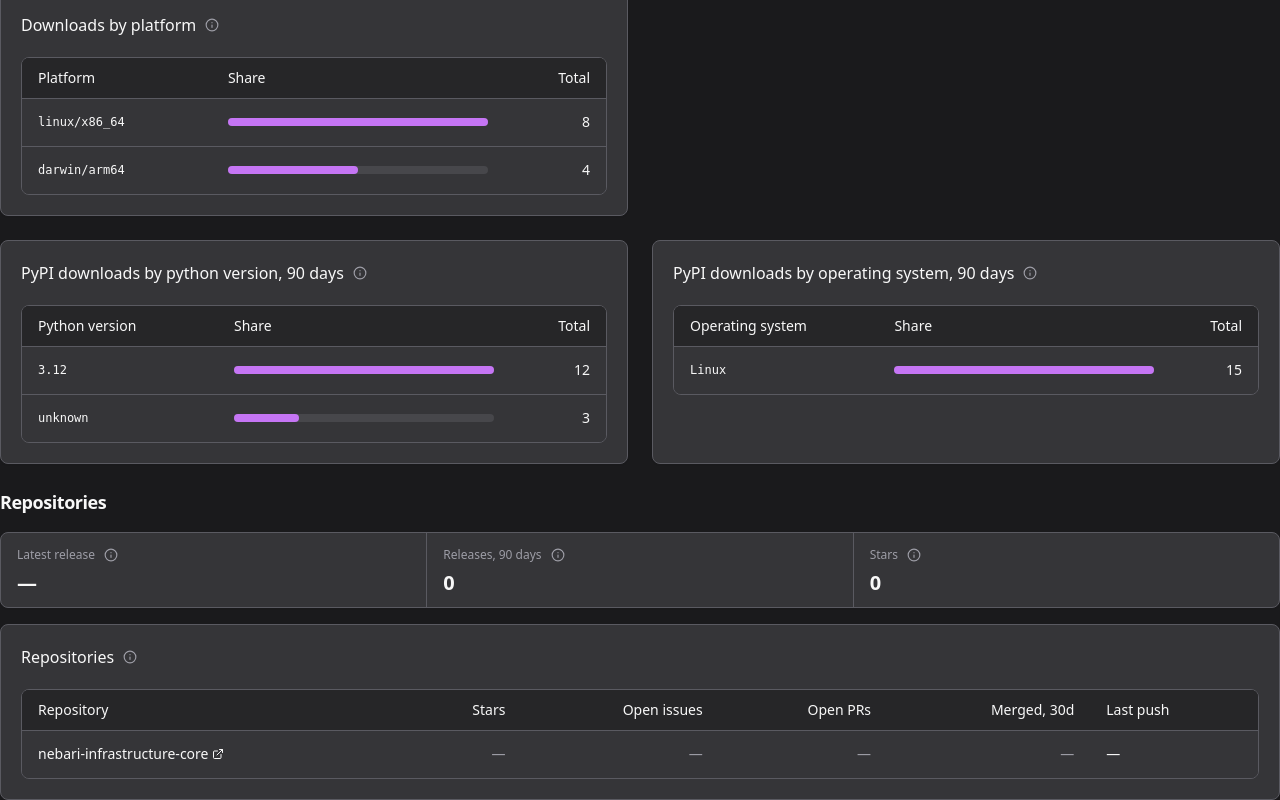
Product › lists artifacts and release breakdowns
The width and height of the screenshot is (1280, 800).
(page scrolled)
Expected: the text "linux/x86_64" is shown, [22,98,212,146]
// A repo without a health snapshot shows dashes, and no latest release.
Click the button named "About: Latest release" at {"x": 111, "y": 555}, box [99,543,123,567]
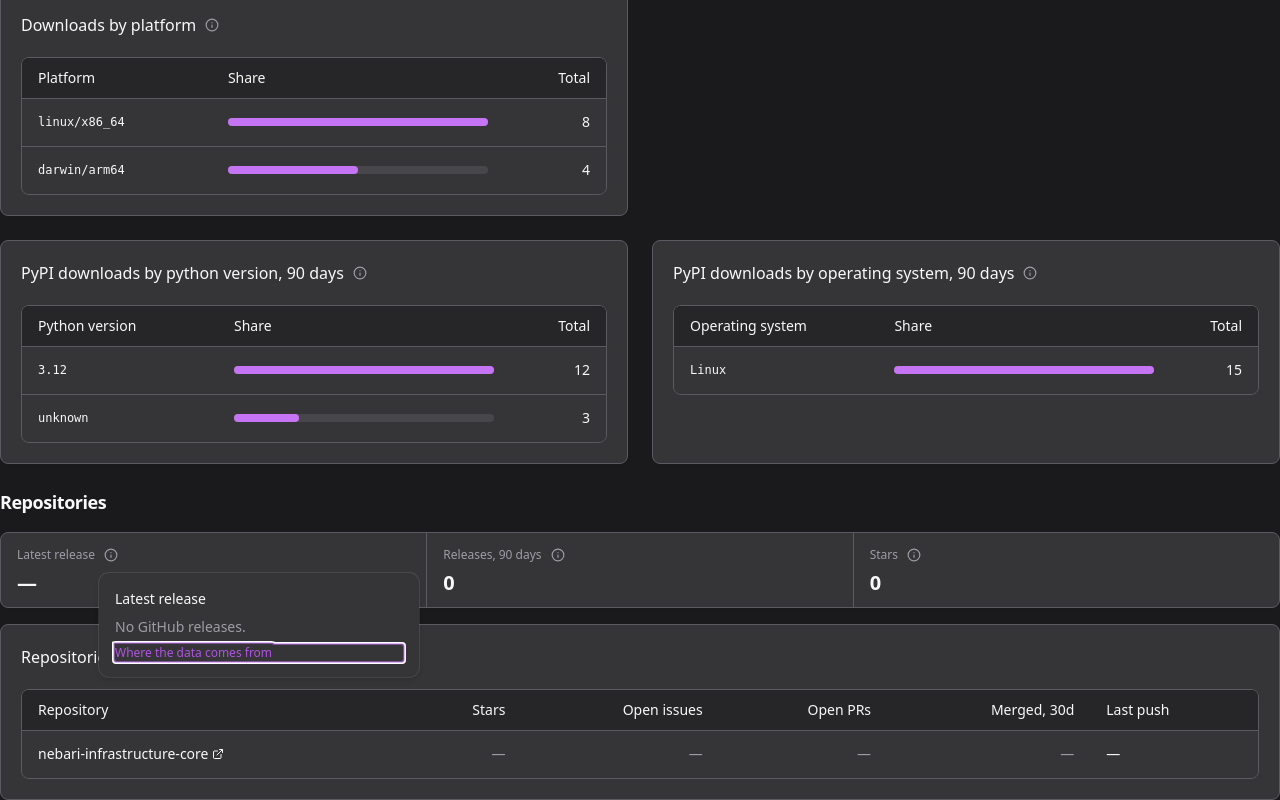
Expected: the table named "Downloads by python version" is shown, [22,306,606,442]
Now the text "No GitHub releases." is shown, box [115,617,246,636]
